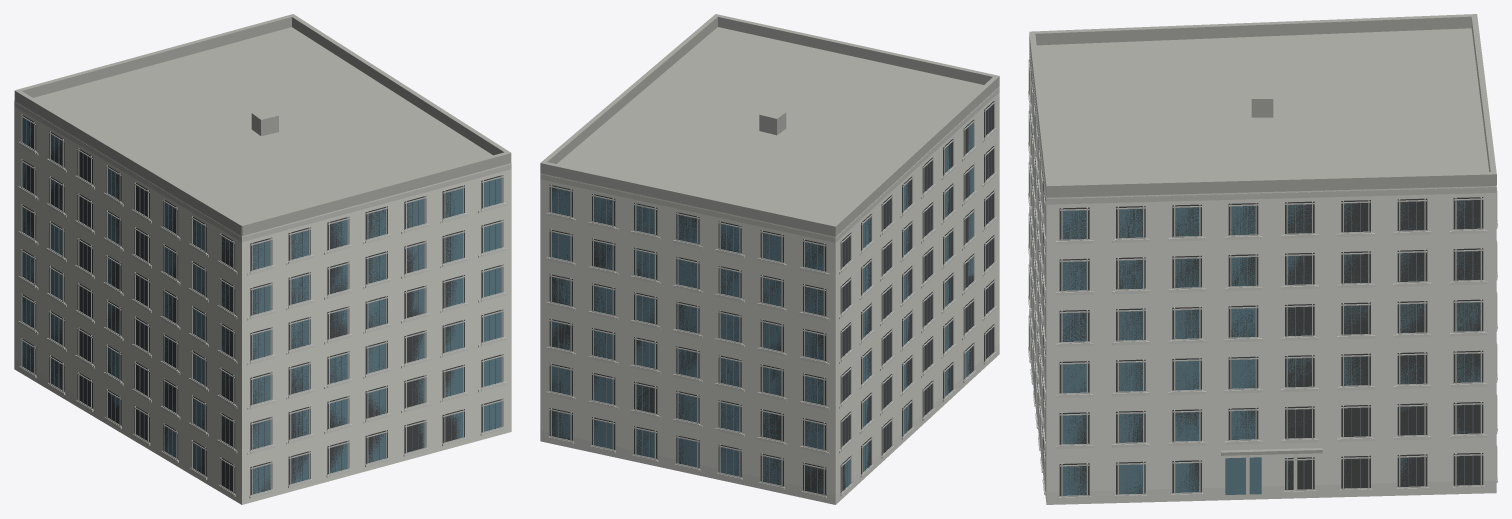
The model's file is cop_residencial_compacto_02__way_586695360.fbx.
The picture shows the model from 3 angles, left to right: view 1: azimuth 30°, elevation 25°; view 2: azimuth 150°, elevation 25°; view 3: azimuth 270°, elevation 25°; orthographic projection. The views are drawn at different scales.
Parts seen in each view (by area): view 1: cop_residencial_compacto_02__way_586695360_wall, cop_residencial_compacto_02__way_586695360_roof, cop_residencial_compacto_02__way_586695360_shadow, cop_residencial_compacto_02__way_586695360_glass, cop_residencial_compacto_02__way_586695360_trim, cop_residencial_compacto_02__way_586695360_stone, cop_residencial_compacto_02__way_586695360_metal; view 2: cop_residencial_compacto_02__way_586695360_wall, cop_residencial_compacto_02__way_586695360_roof, cop_residencial_compacto_02__way_586695360_shadow, cop_residencial_compacto_02__way_586695360_glass, cop_residencial_compacto_02__way_586695360_trim, cop_residencial_compacto_02__way_586695360_stone, cop_residencial_compacto_02__way_586695360_metal; view 3: cop_residencial_compacto_02__way_586695360_wall, cop_residencial_compacto_02__way_586695360_roof, cop_residencial_compacto_02__way_586695360_shadow, cop_residencial_compacto_02__way_586695360_glass, cop_residencial_compacto_02__way_586695360_trim, cop_residencial_compacto_02__way_586695360_stone, cop_residencial_compacto_02__way_586695360_metal.
Boxes of the visible parts, left/top/right/bottom form: cop_residencial_compacto_02__way_586695360_wall: left=14, top=101, right=511, bottom=504; cop_residencial_compacto_02__way_586695360_roof: left=14, top=14, right=511, bottom=235; cop_residencial_compacto_02__way_586695360_shadow: left=21, top=114, right=503, bottom=495; cop_residencial_compacto_02__way_586695360_glass: left=22, top=117, right=501, bottom=494; cop_residencial_compacto_02__way_586695360_trim: left=14, top=102, right=511, bottom=495; cop_residencial_compacto_02__way_586695360_stone: left=14, top=142, right=506, bottom=503; cop_residencial_compacto_02__way_586695360_metal: left=25, top=120, right=495, bottom=493; cop_residencial_compacto_02__way_586695360_wall: left=540, top=86, right=999, bottom=504; cop_residencial_compacto_02__way_586695360_roof: left=540, top=14, right=999, bottom=236; cop_residencial_compacto_02__way_586695360_shadow: left=549, top=101, right=994, bottom=495; cop_residencial_compacto_02__way_586695360_glass: left=552, top=123, right=973, bottom=494; cop_residencial_compacto_02__way_586695360_trim: left=540, top=87, right=999, bottom=496; cop_residencial_compacto_02__way_586695360_stone: left=540, top=127, right=999, bottom=504; cop_residencial_compacto_02__way_586695360_metal: left=557, top=106, right=991, bottom=493; cop_residencial_compacto_02__way_586695360_wall: left=1029, top=53, right=1496, bottom=504; cop_residencial_compacto_02__way_586695360_roof: left=1029, top=14, right=1496, bottom=455; cop_residencial_compacto_02__way_586695360_shadow: left=1029, top=60, right=1483, bottom=496; cop_residencial_compacto_02__way_586695360_glass: left=1062, top=200, right=1480, bottom=495; cop_residencial_compacto_02__way_586695360_trim: left=1028, top=46, right=1497, bottom=497; cop_residencial_compacto_02__way_586695360_stone: left=1028, top=90, right=1497, bottom=504; cop_residencial_compacto_02__way_586695360_metal: left=1029, top=68, right=1473, bottom=495.
Size of the model in its own units: 2172 by 1912 by 2496.
